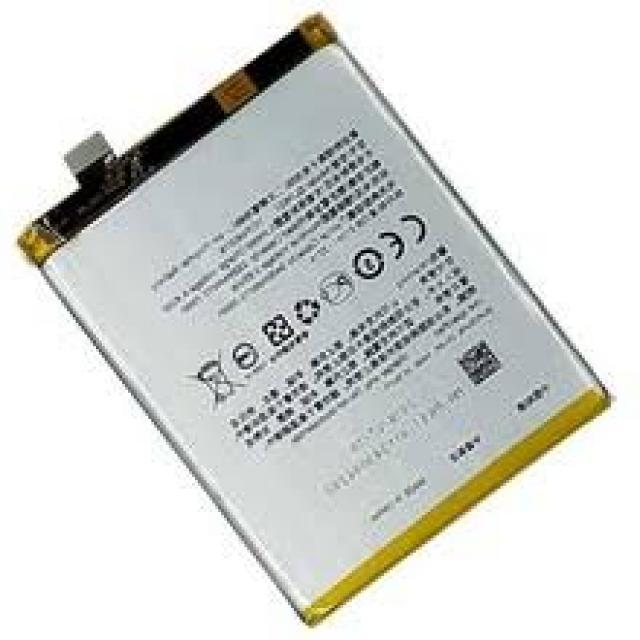battery: (12, 12, 606, 626)
